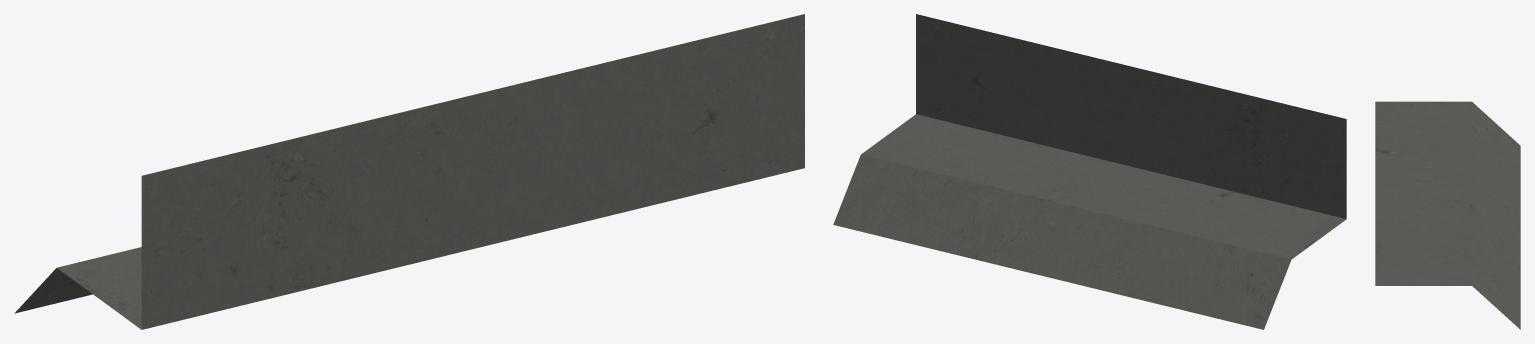
File: sm_cb01_module12.glb
3 renders of one model, left to right at view 1: azimuth 30°, elevation 25°; view 2: azimuth 150°, elevation 25°; view 3: azimuth 270°, elevation 25°, orthographic. The views are drawn at different scales.
Visible parts, largest first — view 1: sm_cb01_module12; view 2: sm_cb01_module12; view 3: sm_cb01_module12.
Boxes of the visible parts, x1=… form: sm_cb01_module12: x1=14, y1=14, x2=804, y2=329; sm_cb01_module12: x1=833, y1=14, x2=1346, y2=329; sm_cb01_module12: x1=1375, y1=101, x2=1520, y2=329.
Size of the model in its own units: 9 by 3 by 3.
Materials: 1 (1 with a texture image).
